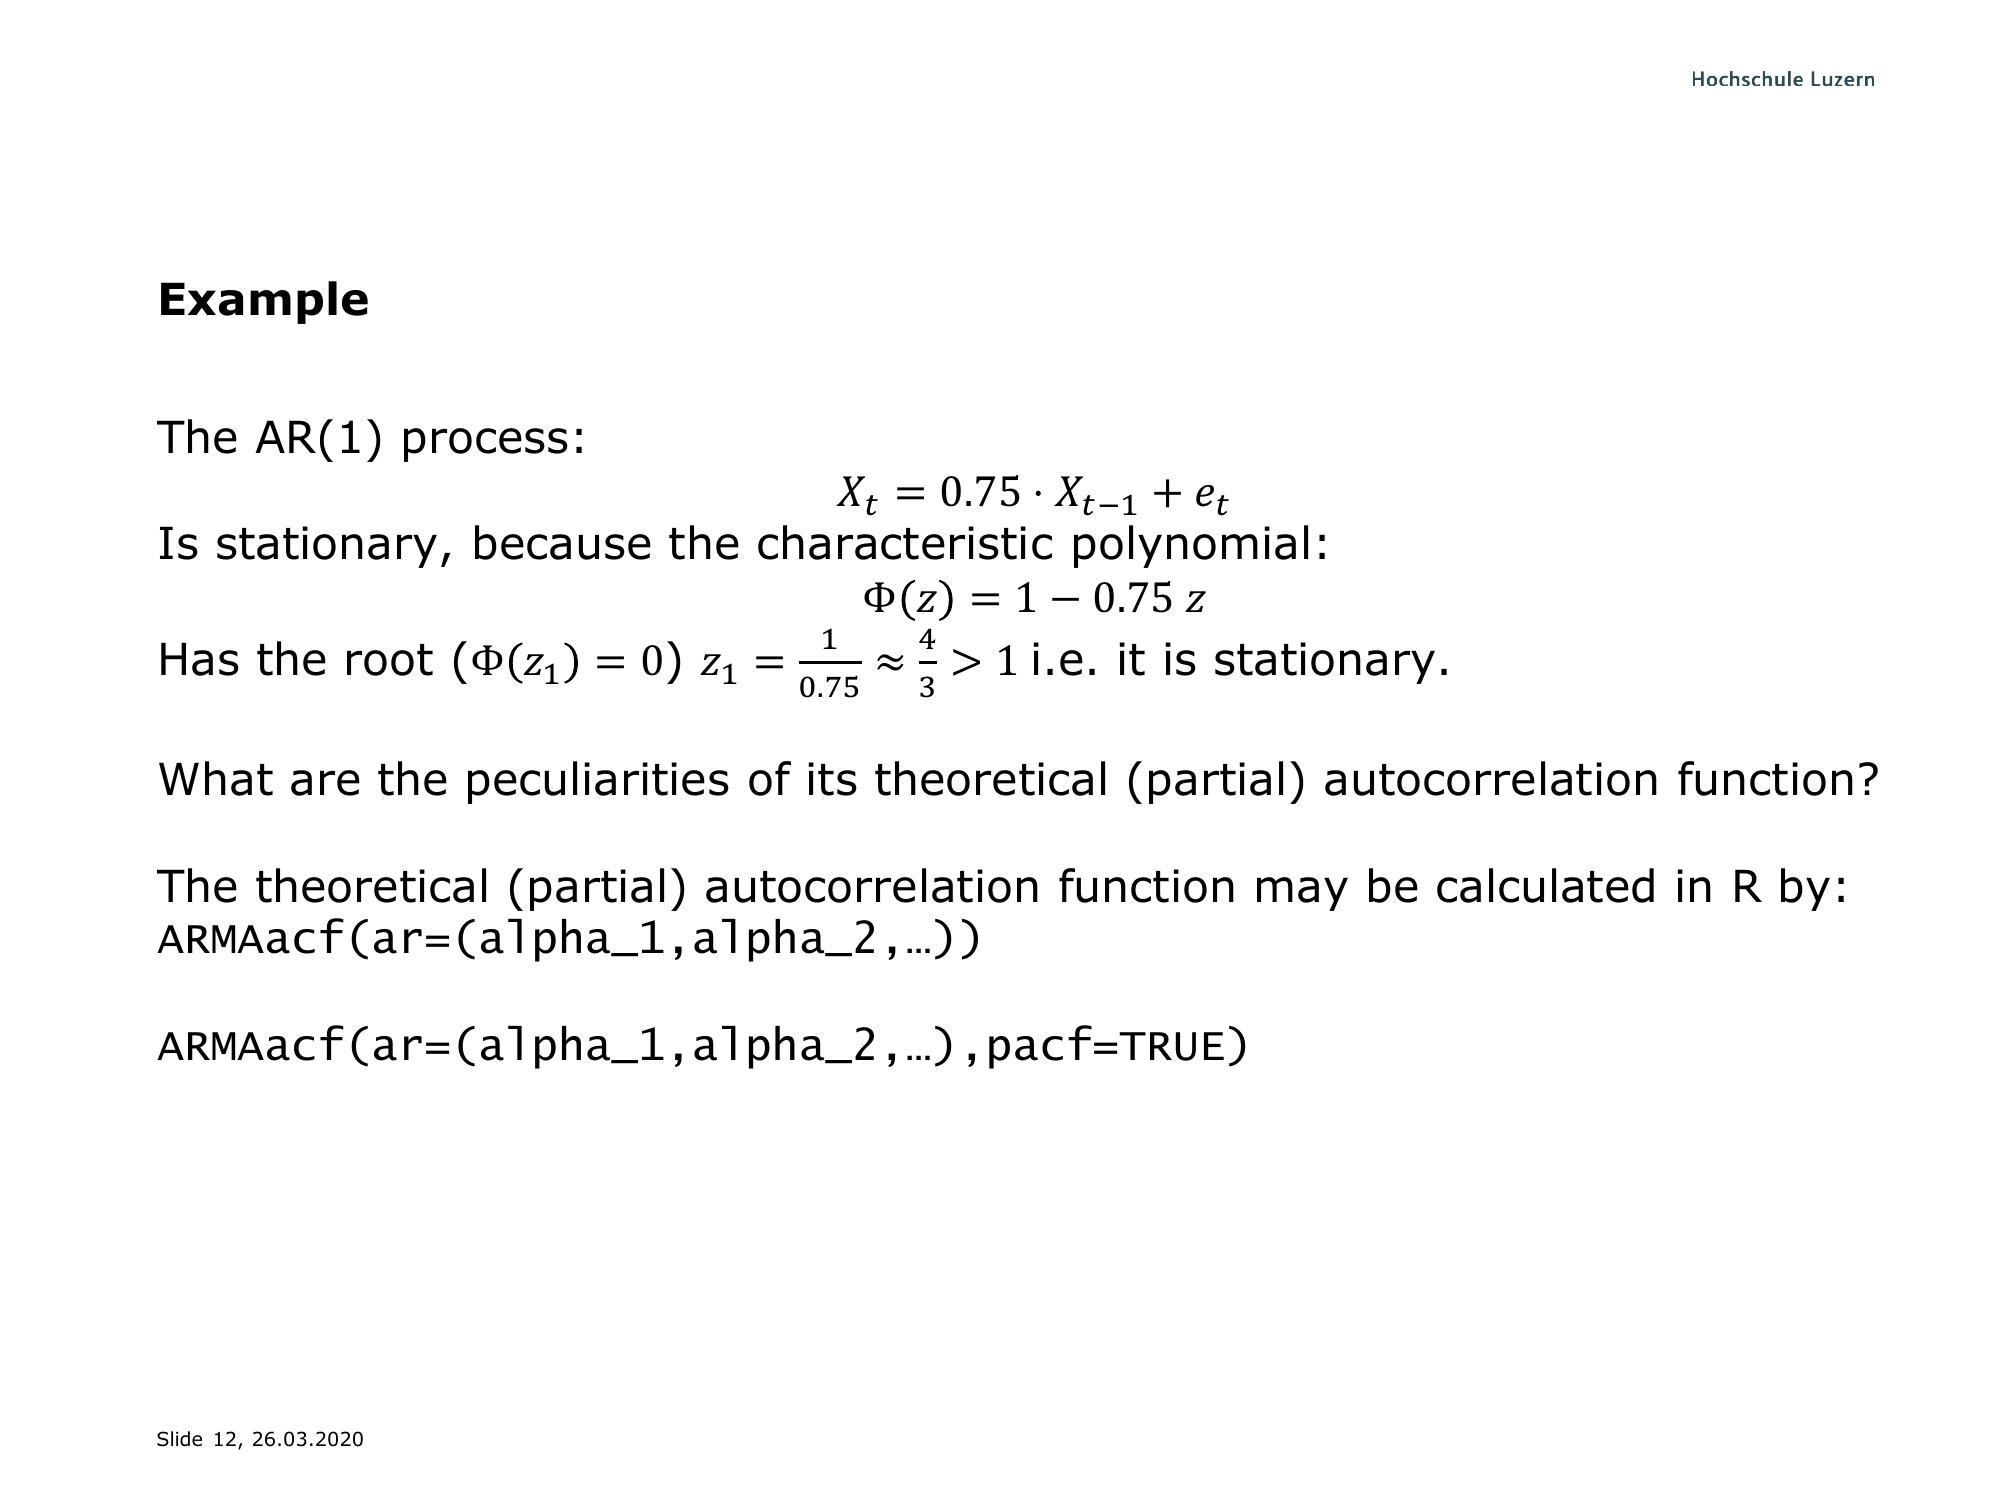Title: (135, 257, 383, 339)
